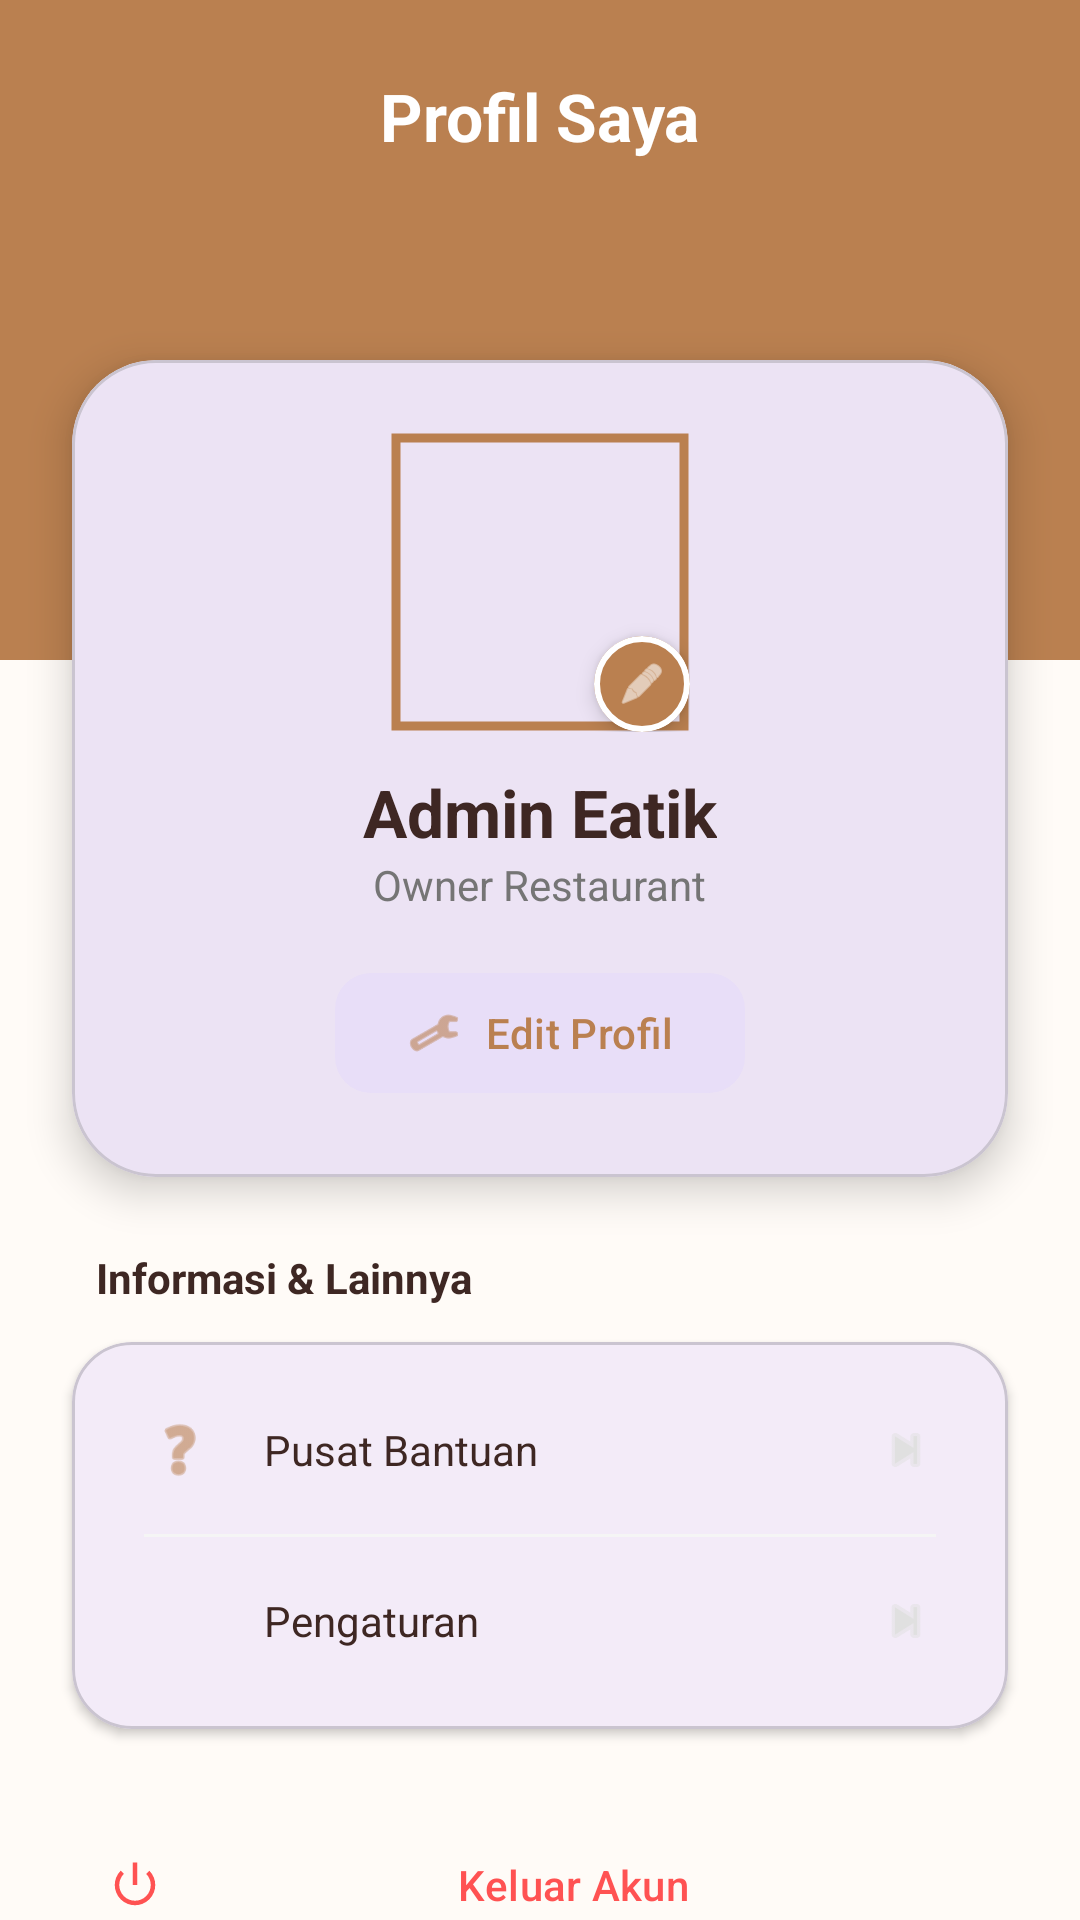

Where to tap for icons on this 1080px×1920px app screen, as point (x, y):
edit: point (642, 683)
help: point (180, 1450)
